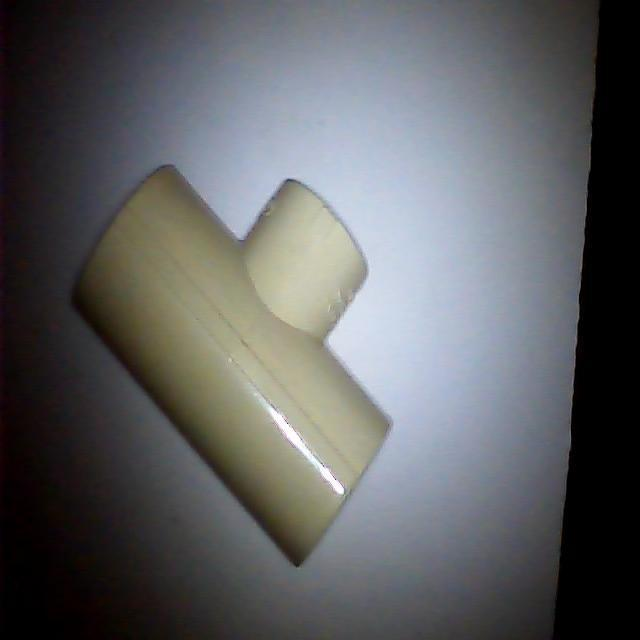T Joint: (73, 165, 393, 569)
